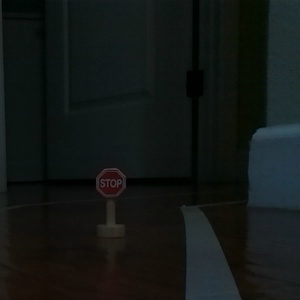stop sign: (93, 166, 128, 238)
